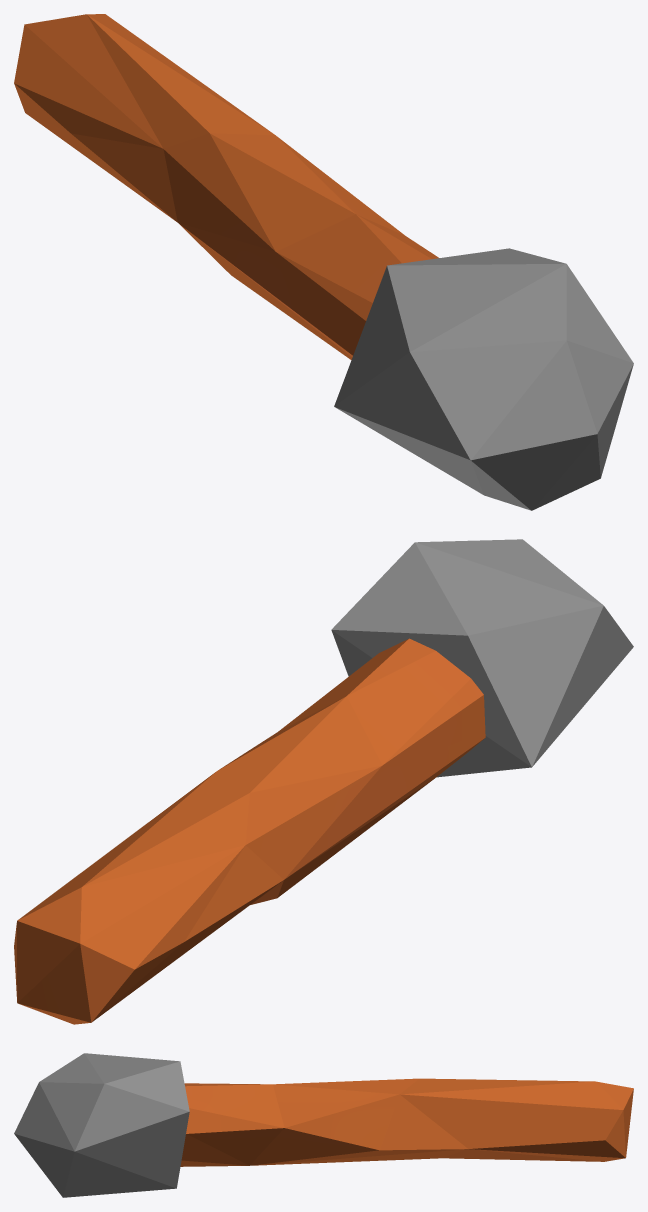
Rendered from Stick.fbx.
3 views of the same model, one above another, from view 1: azimuth 30°, elevation 25°; view 2: azimuth 150°, elevation 25°; view 3: azimuth 270°, elevation 25° (orthographic). The views are drawn at different scales.
Visible parts, largest first — view 1: Stick; view 2: Stick; view 3: Stick.
Part boxes in pixels (left/top/right/bottom): Stick: left=14, top=14, right=633, bottom=510; Stick: left=14, top=539, right=633, bottom=1024; Stick: left=14, top=1053, right=633, bottom=1197.
Size of the model in its own units: 0.085 by 0.0758 by 0.348.
